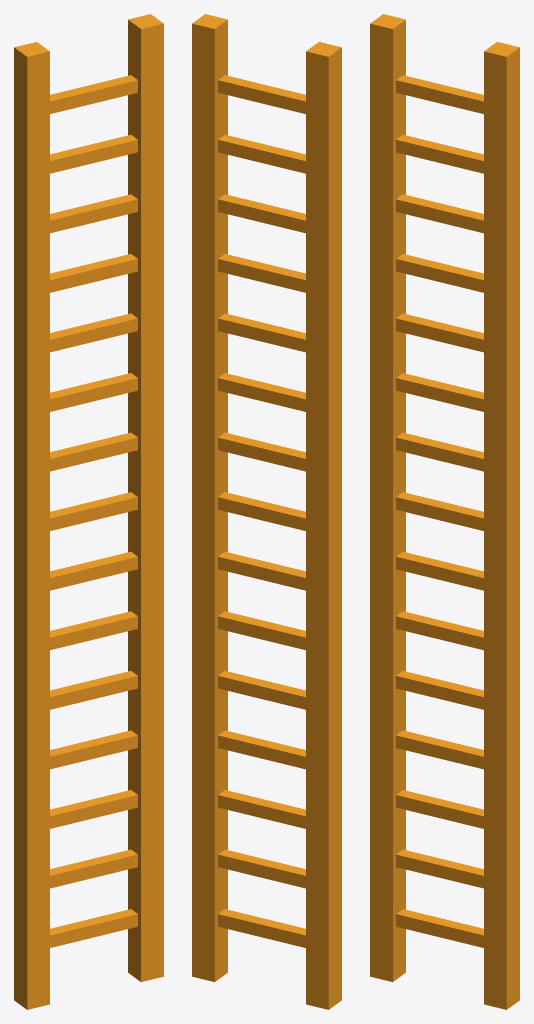
Rendered from SM_Prop_Ladder_1x4_01.fbx.
3 views of the same model, side by side, from view 1: azimuth 30°, elevation 25°; view 2: azimuth 150°, elevation 25°; view 3: azimuth 330°, elevation 25° (orthographic).
Visible parts, largest first — view 1: SM_Prop_Ladder_1x4_01; view 2: SM_Prop_Ladder_1x4_01; view 3: SM_Prop_Ladder_1x4_01.
Part boxes in pixels (x1=…): SM_Prop_Ladder_1x4_01: x1=14, y1=14, x2=163, y2=1009; SM_Prop_Ladder_1x4_01: x1=192, y1=14, x2=341, y2=1009; SM_Prop_Ladder_1x4_01: x1=370, y1=14, x2=519, y2=1009.
Bounding box in the file's own units: 60 × 400 × 10.
